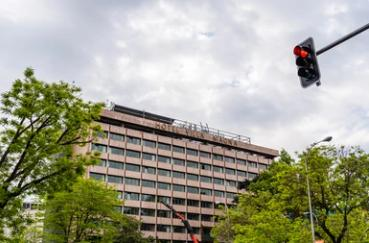red_light: (293, 37, 321, 88)
